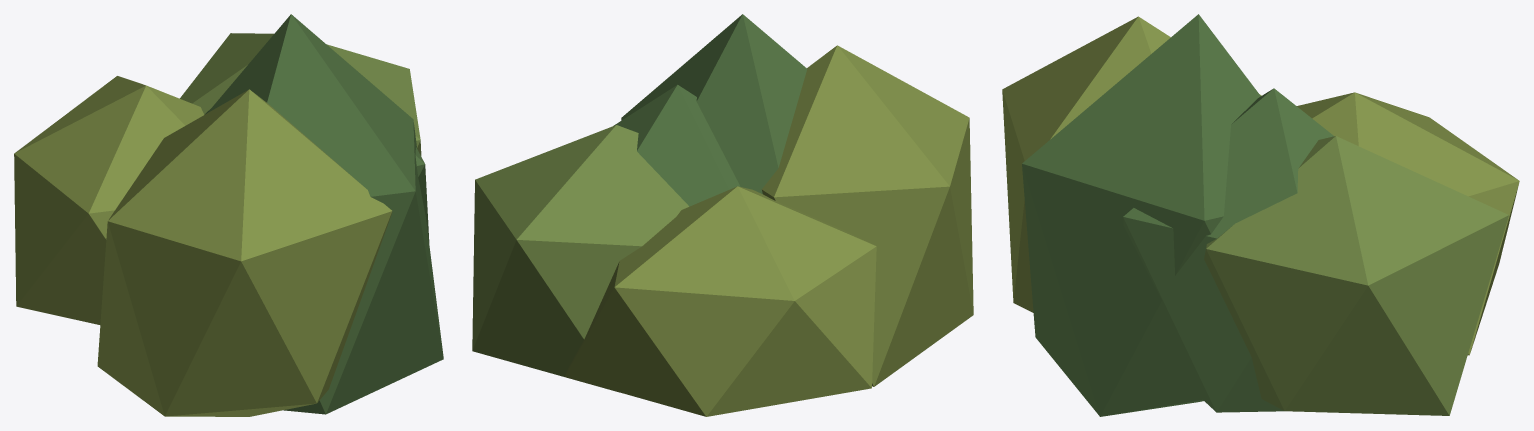
Rendered from BP_Shrub_1.fbx.
3 views of the same model, side by side, from view 1: azimuth 30°, elevation 25°; view 2: azimuth 150°, elevation 25°; view 3: azimuth 270°, elevation 25° (orthographic). The views are drawn at different scales.
Visible parts, largest first — view 1: BP_Shrub_1; view 2: BP_Shrub_1; view 3: BP_Shrub_1.
Part boxes in pixels (bbox=[...]): BP_Shrub_1: bbox=[14, 14, 443, 416]; BP_Shrub_1: bbox=[472, 14, 973, 416]; BP_Shrub_1: bbox=[1002, 14, 1519, 416].
Size of the model in its own units: 117 by 103 by 125.
